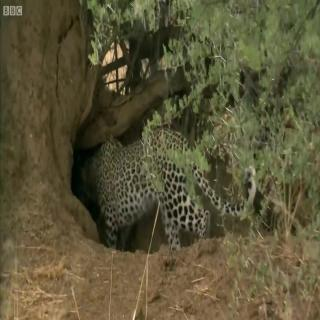Leopard: (72, 114, 278, 266)
